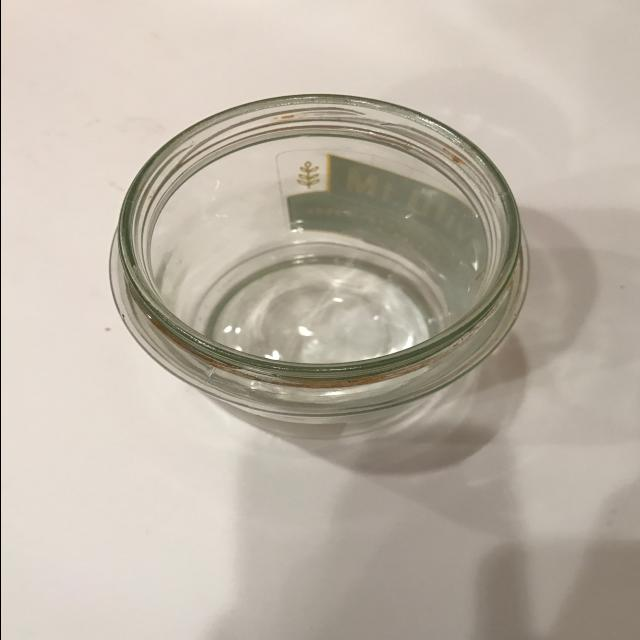glass: (103, 90, 528, 452)
